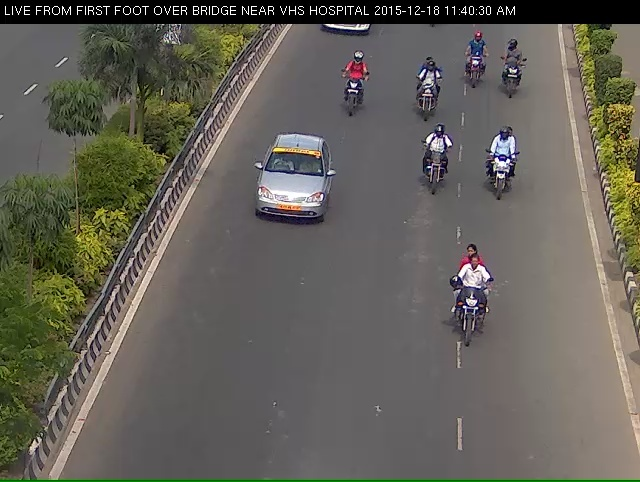Car: (254, 144, 325, 251)
Person: (448, 266, 495, 377), (487, 131, 519, 211), (421, 137, 452, 210), (337, 61, 365, 136), (498, 44, 525, 107), (412, 69, 436, 132), (463, 43, 483, 102)
